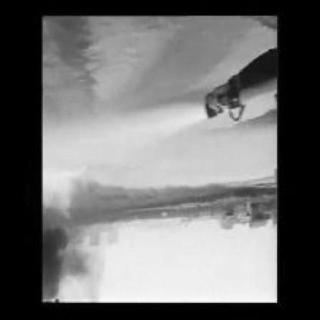Fire: (44, 171, 77, 221)
Smoke: (43, 228, 89, 302)
